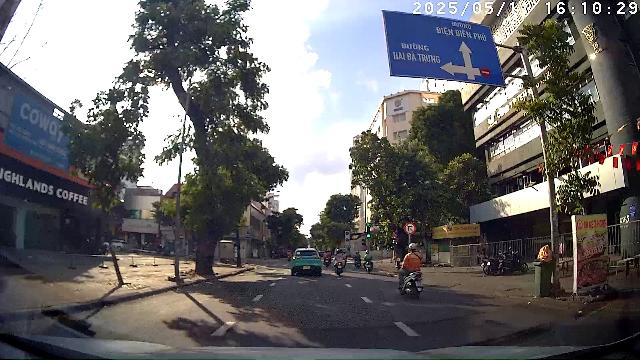123b-cam-re-phai: (404, 222, 416, 234)
